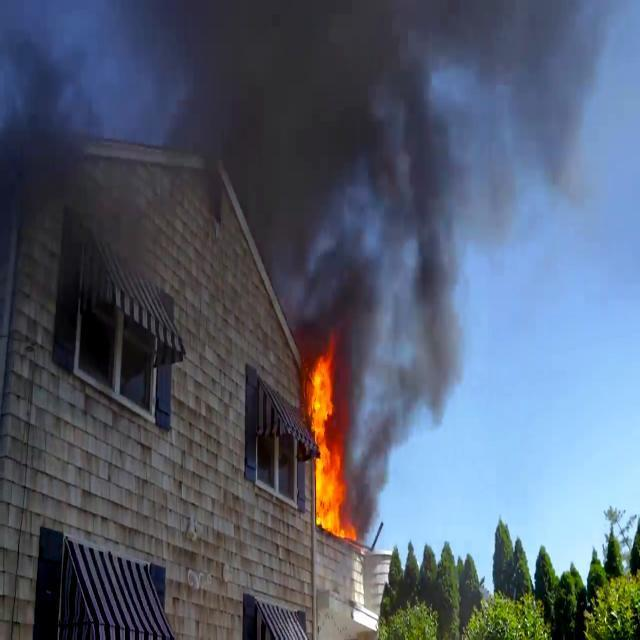Fire: (310, 346, 356, 538)
Smoke: (0, 1, 604, 335), (352, 327, 463, 505)
